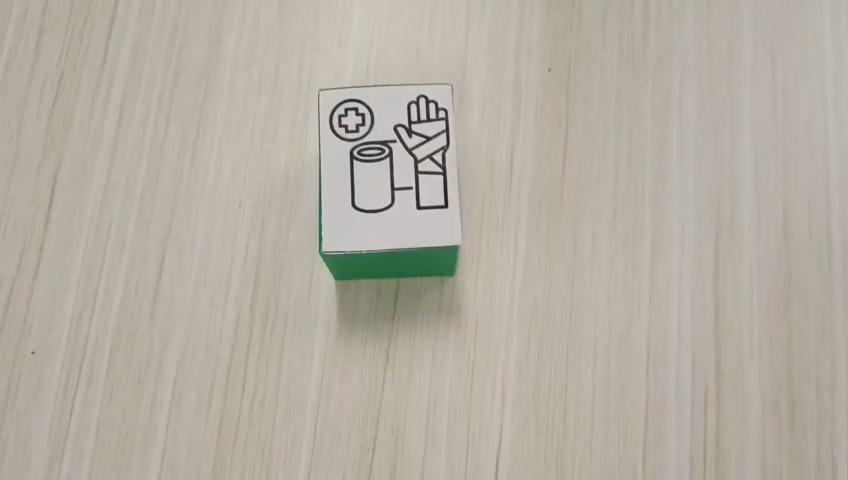Bandages: (317, 82, 462, 280)
